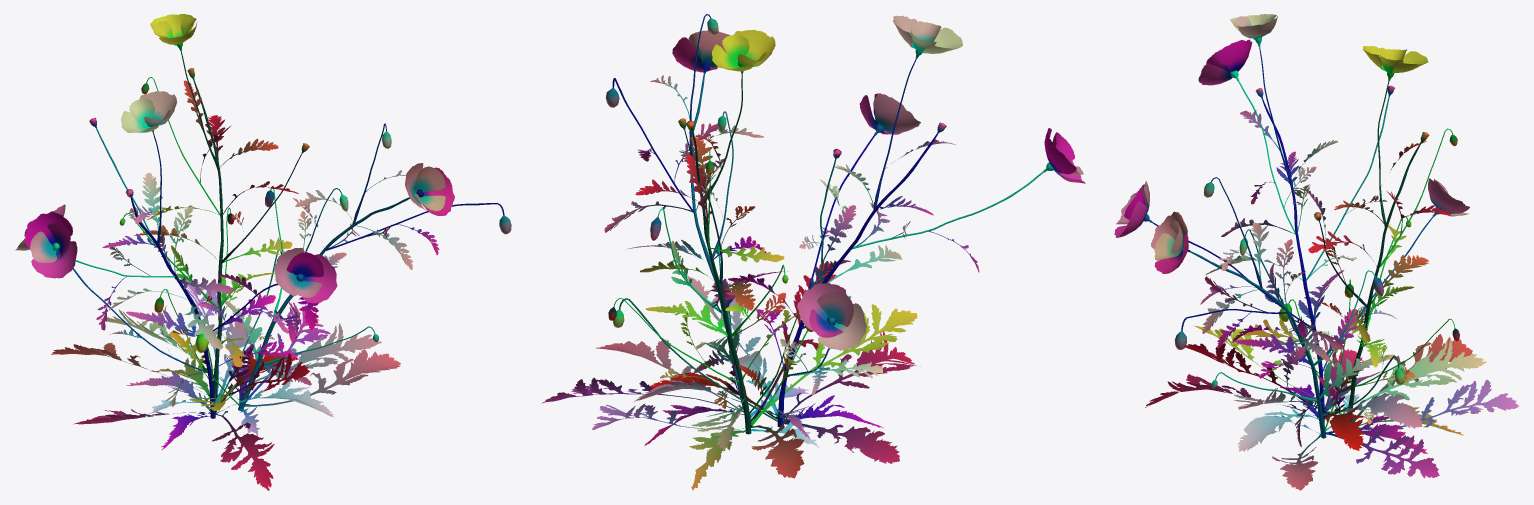
File: Field_Poppy_vmcobd0ja_Raw_vmcobd0ja_VarF_LOD0.fbx
3 views of the same model, side by side, from view 1: azimuth 30°, elevation 25°; view 2: azimuth 150°, elevation 25°; view 3: azimuth 270°, elevation 25° (orthographic). The views are drawn at different scales.
Parts seen in each view (by area): view 1: _crid_VarF_High; view 2: _crid_VarF_High; view 3: _crid_VarF_High.
Part boxes in pixels (left/top/right/bottom): _crid_VarF_High: left=15, top=14, right=511, bottom=490; _crid_VarF_High: left=541, top=14, right=1085, bottom=490; _crid_VarF_High: left=1114, top=14, right=1518, bottom=490.
Size of the model in its own units: 62.63 by 50.3 by 48.3.
